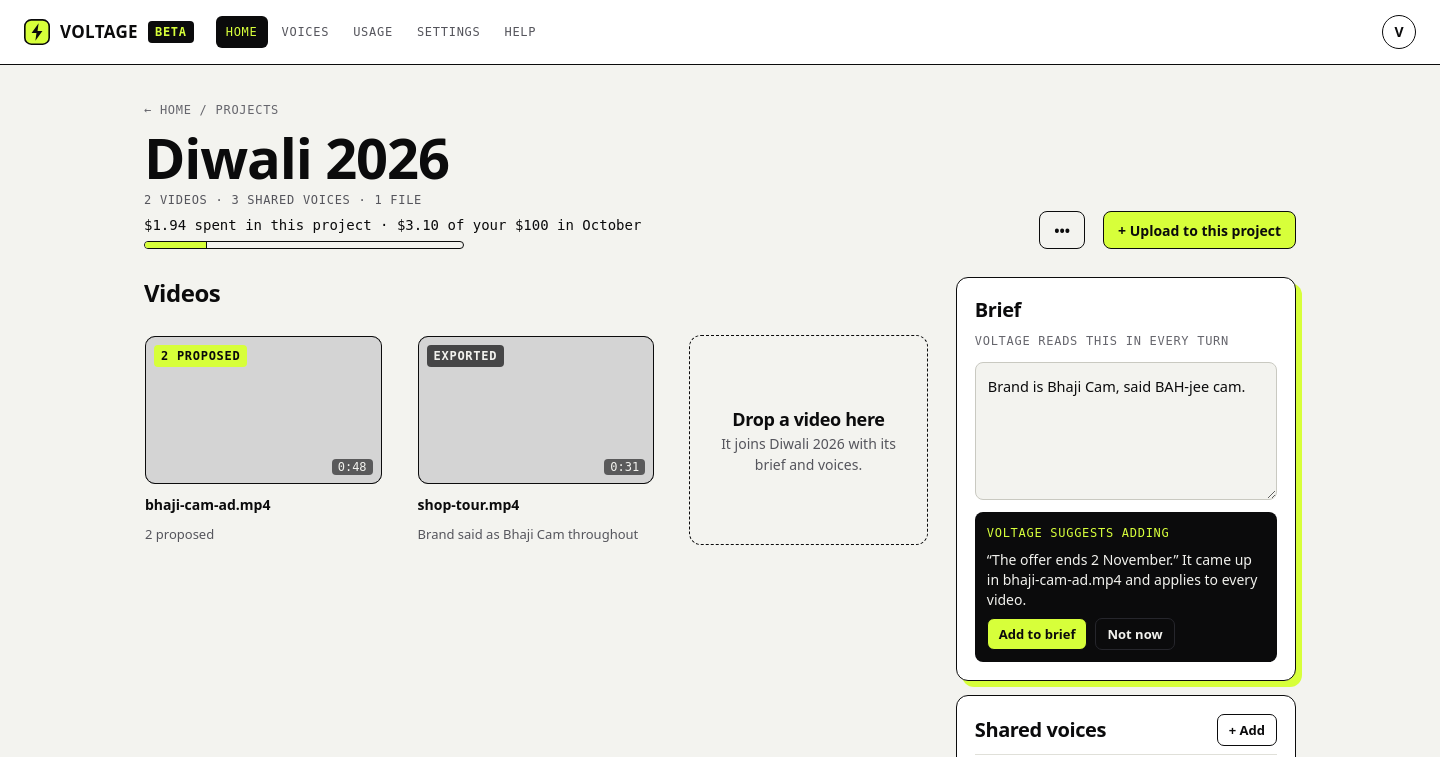
ProjectPage (a folder of videos) › accepts Voltage’s suggestion into the brief, and saves an edited brief after typing stops
Expected: the element with test id "suggestion" shows "“The offer ends 2 November.” It came up in bhaji-cam-ad.mp4 and applies to every video.", top-left (975, 512), bottom-right (1277, 662)
Click the button "Add to brief" at {"x": 1037, "y": 634}, box top-left (987, 618), bottom-right (1088, 650)
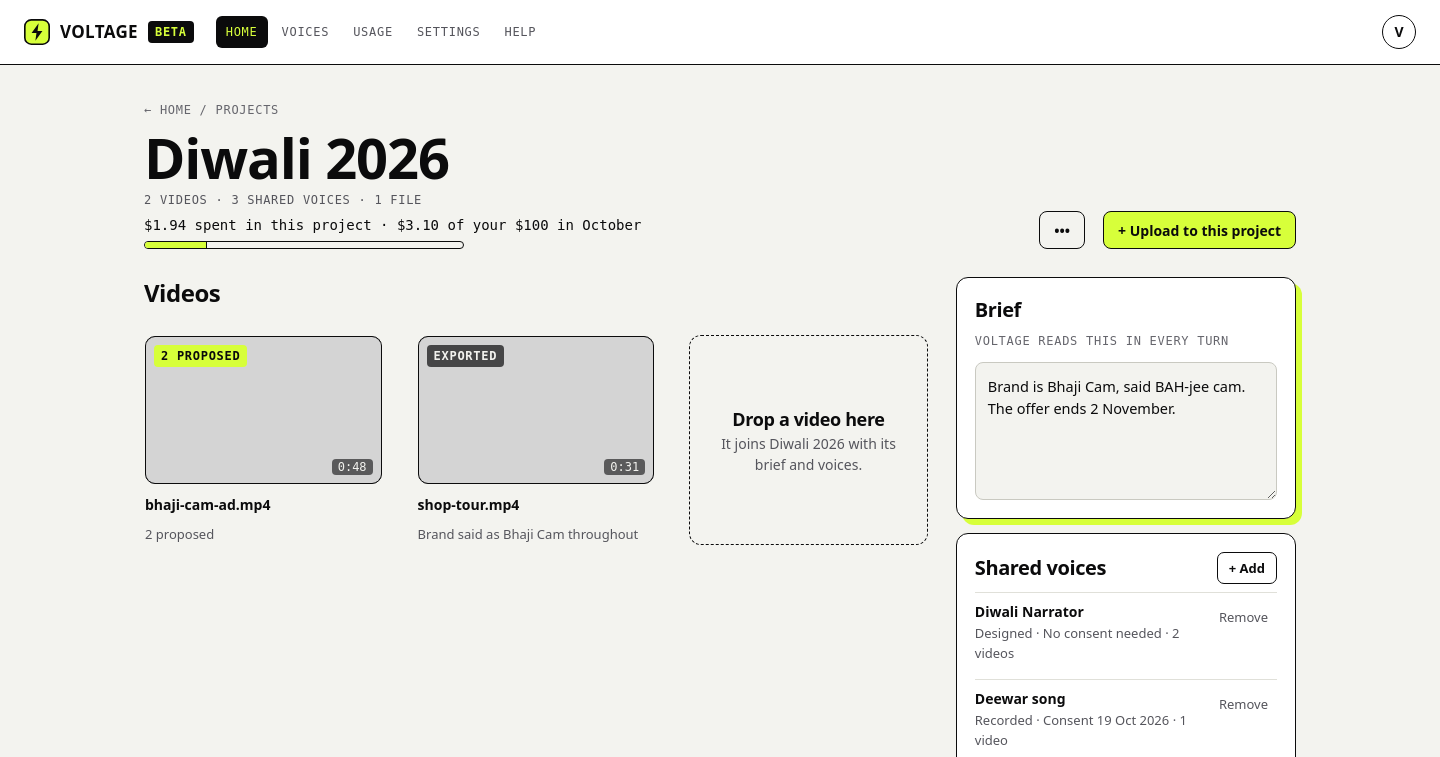
Expected: the text box named "Project brief" holds "Brand is Bhaji Cam, said BAH-jee cam. The offer ends 2 November."
Expected: the element with test id "suggestion" is gone
Type " Warm, never pushy." into the text box named "Project brief" at {"x": 1126, "y": 431}, box top-left (975, 362), bottom-right (1277, 500)
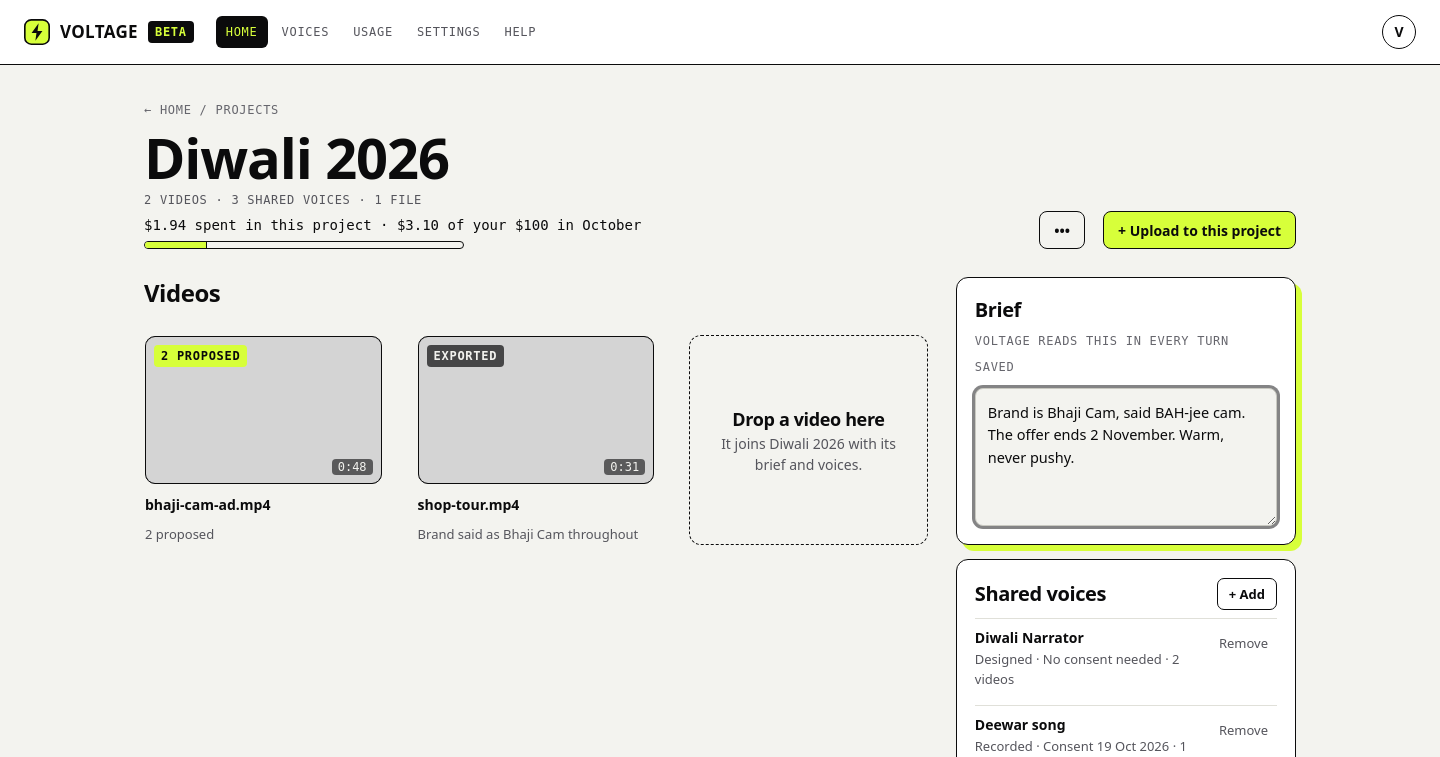
Expected: the message reads "Saved", top-left (975, 360), bottom-right (1014, 374)
